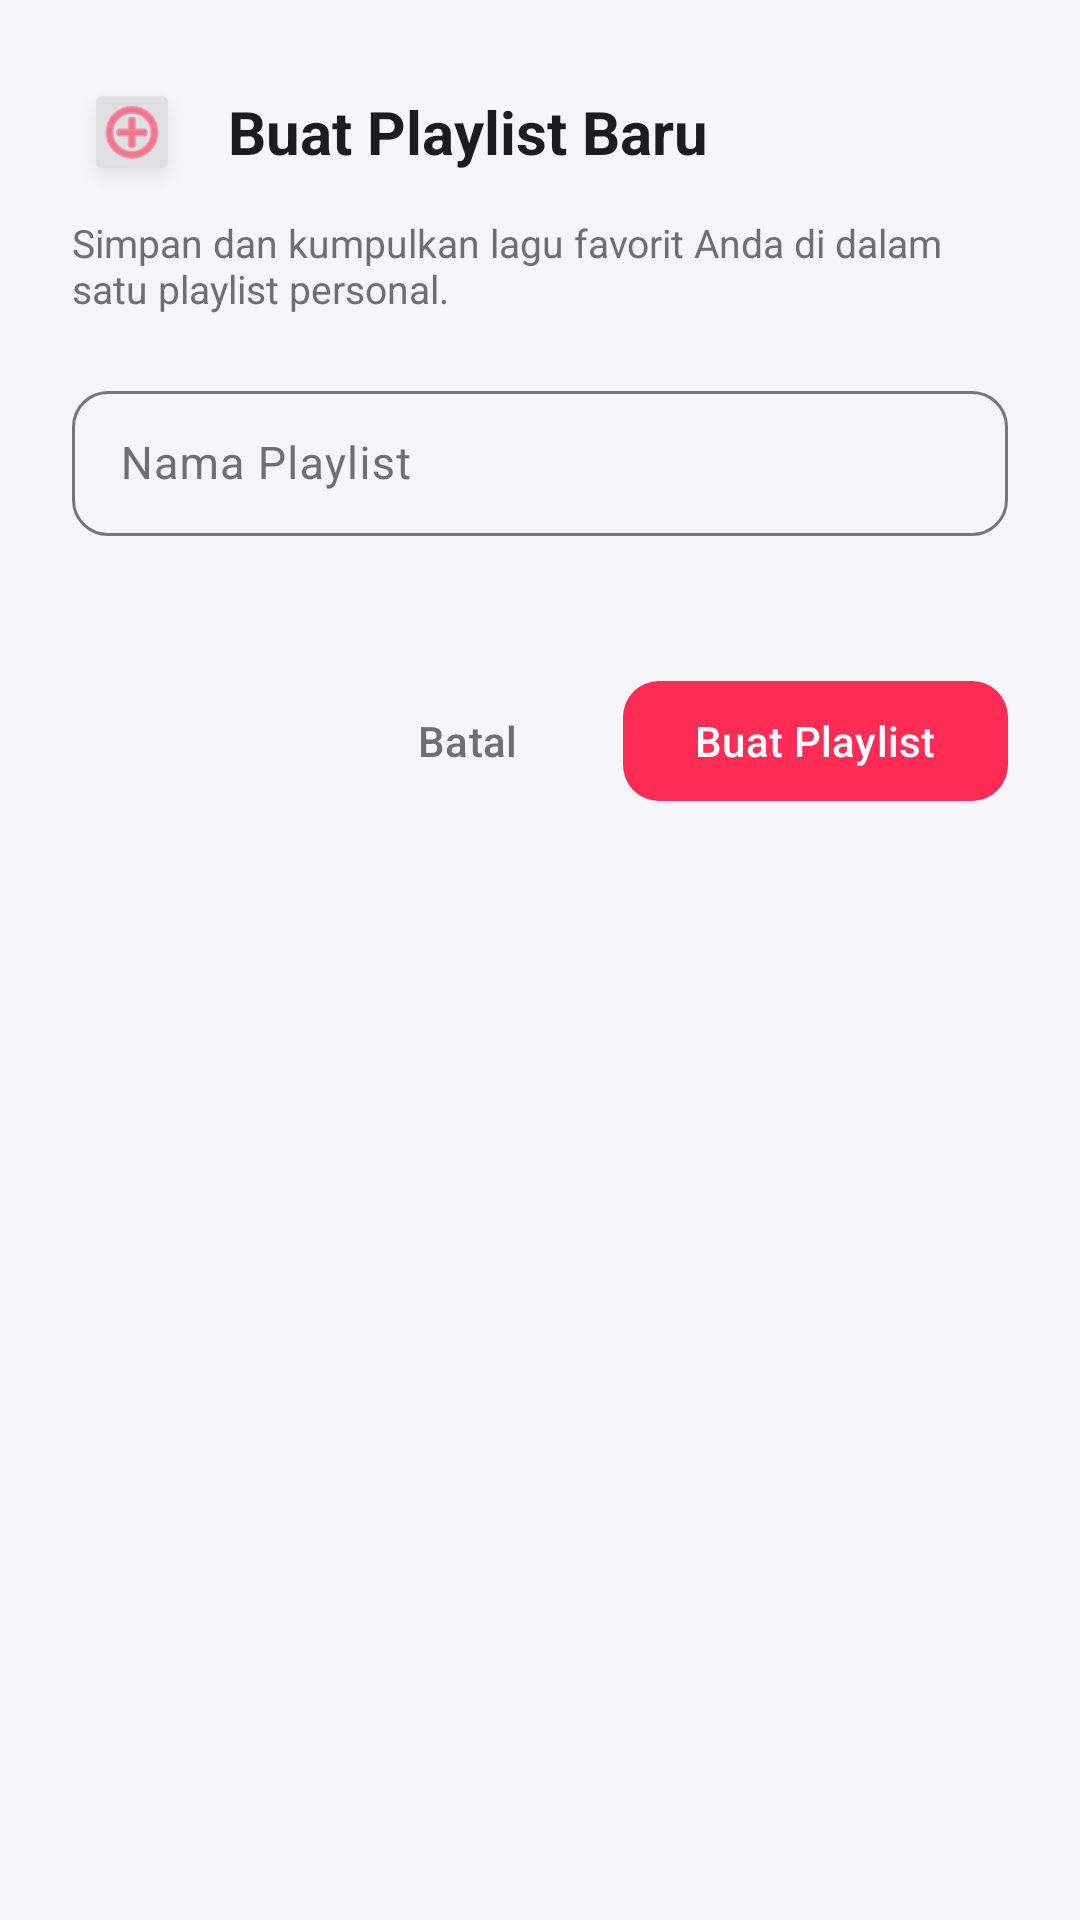

Icon click points for this 1080x1920 phone screenshot, format (x=x, y=y):
add: (x=132, y=132)
